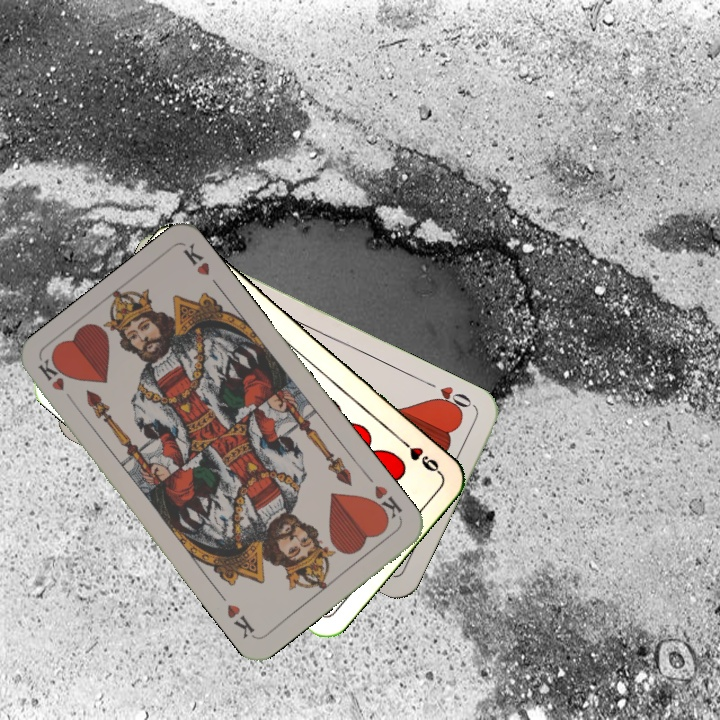H9: (394, 434, 443, 477)
HK: (34, 355, 77, 409), (365, 481, 405, 525)
HO: (421, 377, 476, 416)
